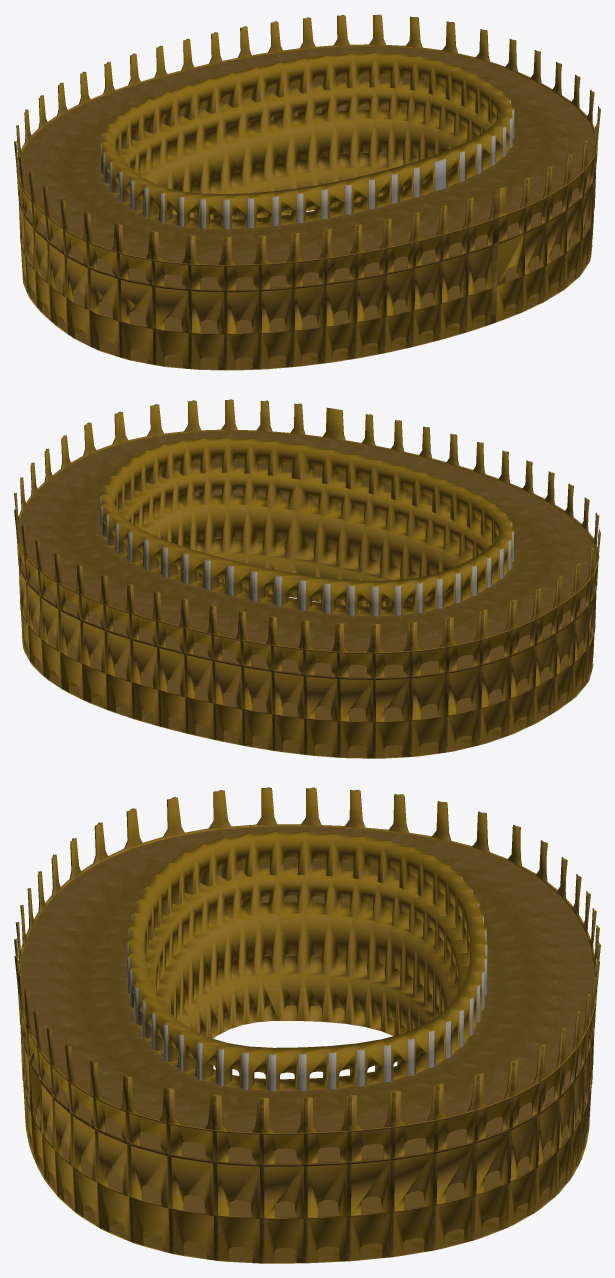
The model's file is mapica3.obj.
3 renders of one model, top to bottom at view 1: azimuth 30°, elevation 25°; view 2: azimuth 150°, elevation 25°; view 3: azimuth 270°, elevation 25°, orthographic. The views are drawn at different scales.
Visible parts, largest first — view 1: Cylinder.003; view 2: Cylinder.003; view 3: Cylinder.003.
Part boxes in pixels (x1,y1,x2,y2): Cylinder.003: (14, 14, 600, 370); Cylinder.003: (14, 399, 600, 758); Cylinder.003: (14, 787, 600, 1263).
Bounding box in the file's own units: 837 × 212 × 666.
1 material, 1 textured.
